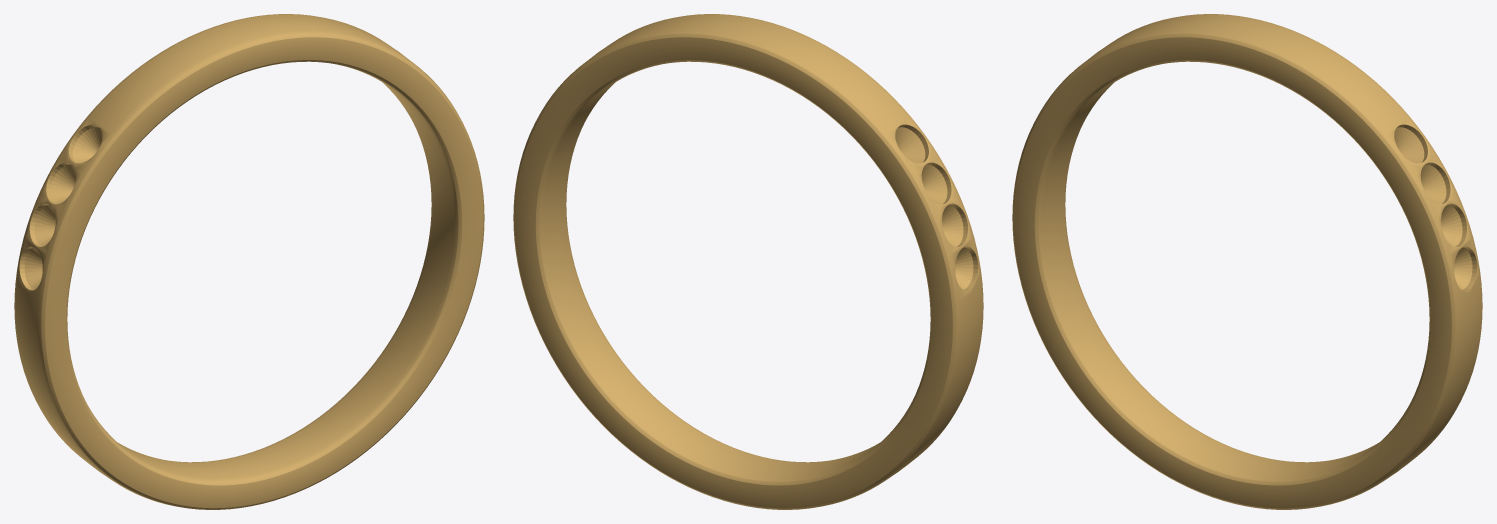
Rendered from soft-square-flush-accents-head.glb.
The picture shows the model from 3 angles, left to right: view 1: azimuth 30°, elevation 25°; view 2: azimuth 150°, elevation 25°; view 3: azimuth 330°, elevation 25°; orthographic projection.
Visible parts, largest first — view 1: Band; view 2: Band; view 3: Band.
Part boxes in pixels (<box>): Band: <box>14,14,484,509</box>; Band: <box>513,14,983,509</box>; Band: <box>1012,14,1482,509</box>.
Bounding box in the file's own units: 19.6 × 19.6 × 2.3.
